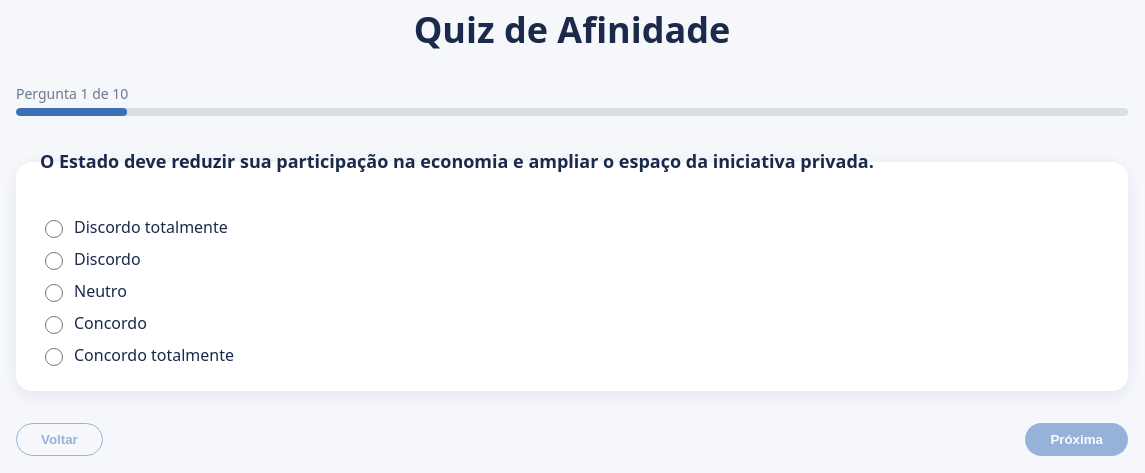
Scenario: QuizQuestionsPage › advances to the next question after answering (Req 10.3)
The image size is (1145, 473).
Click the radio button labelled "Concordo" at (54, 325), box [45,316,63,334]
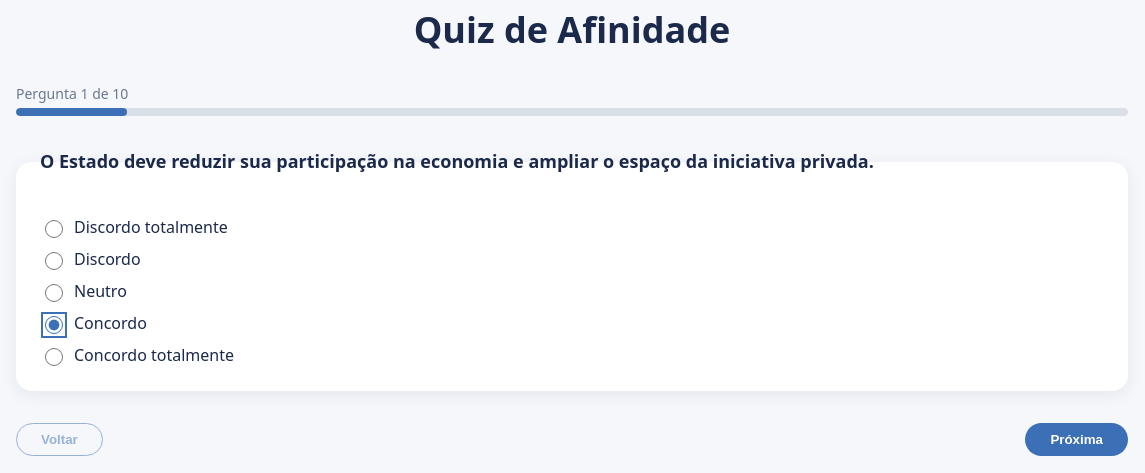
Click the button "Próxima" at (1077, 440), box [1025,423,1128,456]
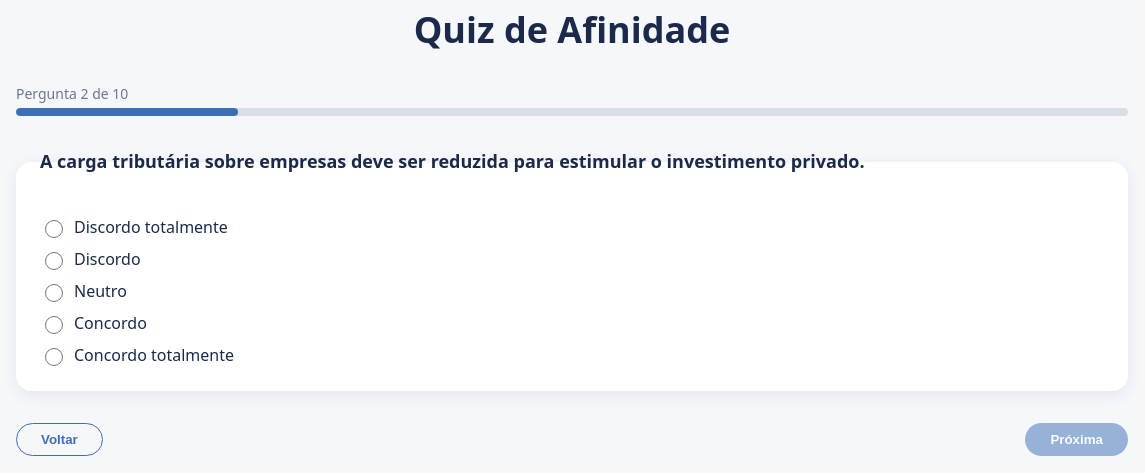
Check: the text "Pergunta 2 de 10" is shown, box [16,84,128,103]
Check: the button "Voltar" is enabled, box [16,423,103,456]
